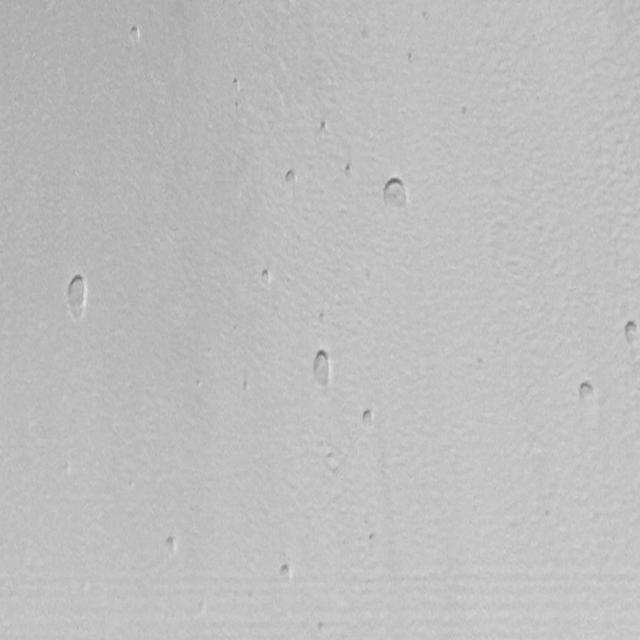pin holes: (60, 270, 92, 322), (379, 174, 412, 215), (307, 348, 335, 392), (576, 379, 601, 411), (621, 318, 640, 349), (161, 534, 183, 560), (276, 562, 298, 587), (125, 22, 146, 46), (322, 449, 342, 472), (361, 406, 379, 431), (258, 266, 275, 289), (283, 168, 301, 188), (316, 119, 331, 136), (342, 162, 356, 180), (366, 528, 378, 548), (316, 308, 326, 330), (230, 77, 242, 94), (406, 48, 416, 68), (240, 378, 252, 394), (460, 105, 471, 121)
